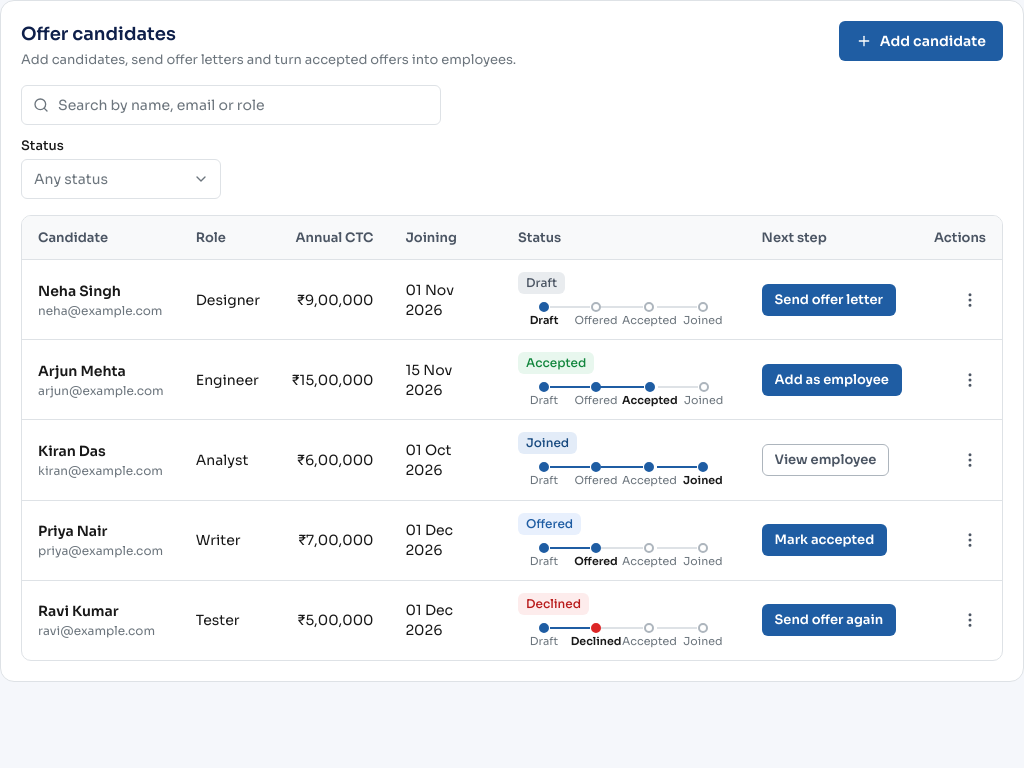
Test: rows › opens the candidate's letters and the edit drawer from the menu
The width and height of the screenshot is (1024, 768).
Check: the text "Neha Singh" is shown, box [38,282,121,300]
Click the button named "Actions for Neha Singh" at (970,300), box [954,284,986,316]
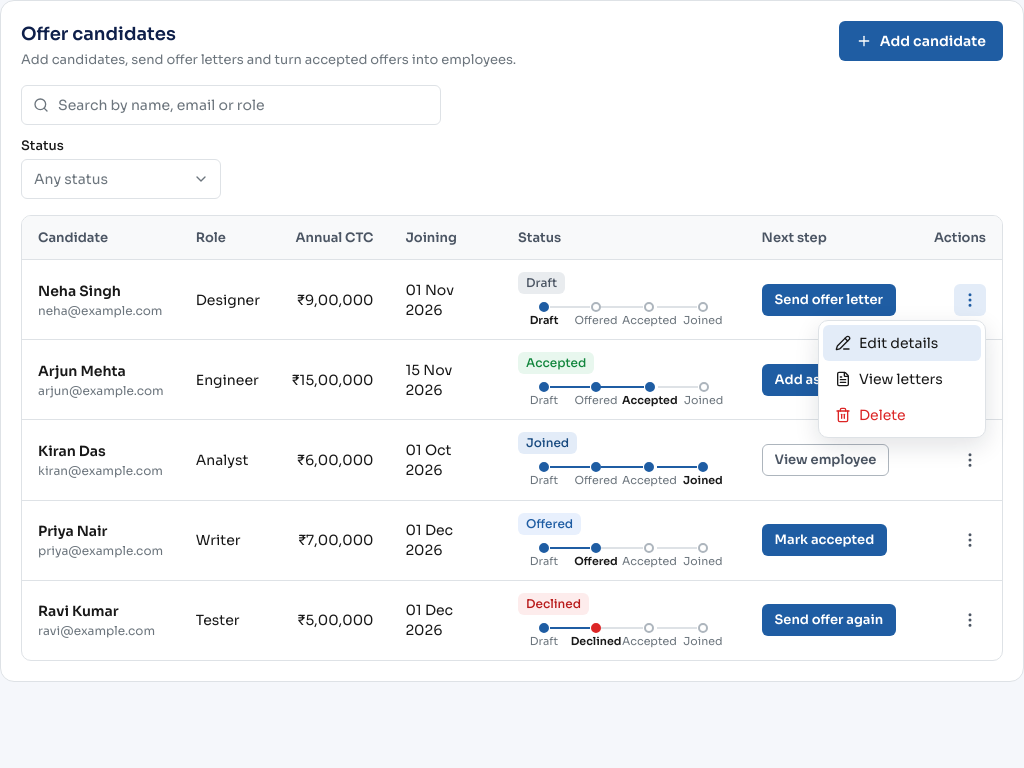
Click the menu item "View letters" at (902,379), box [823,361,981,397]
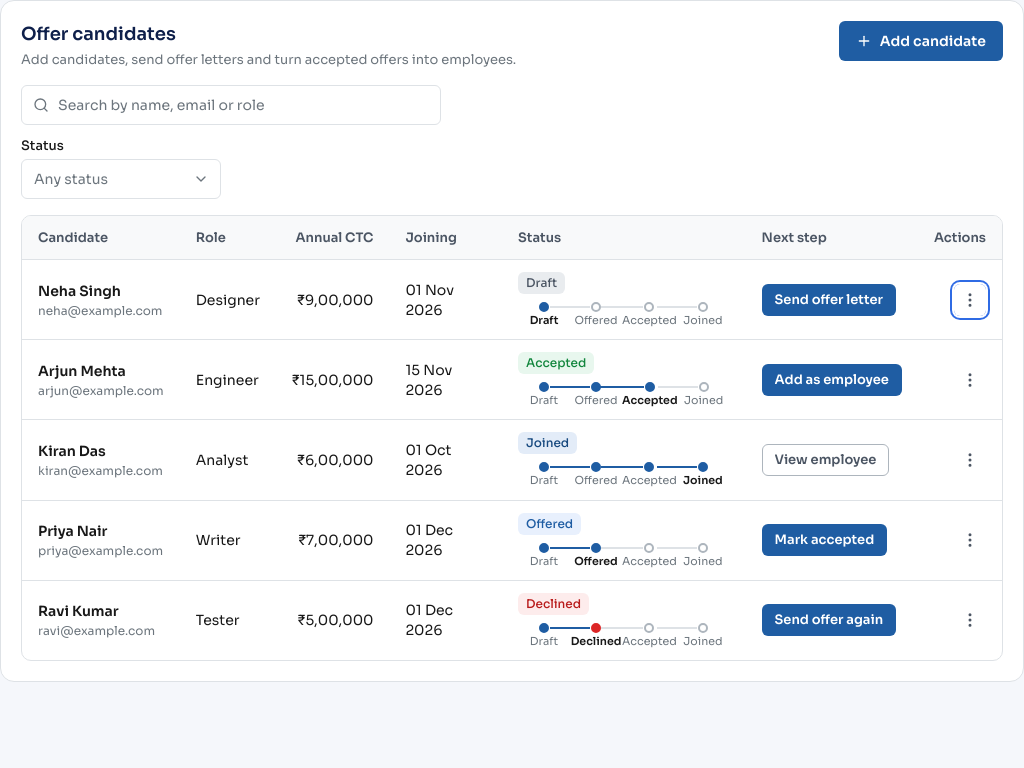
Click the button named "Actions for Neha Singh" at (970,300), box [954,284,986,316]
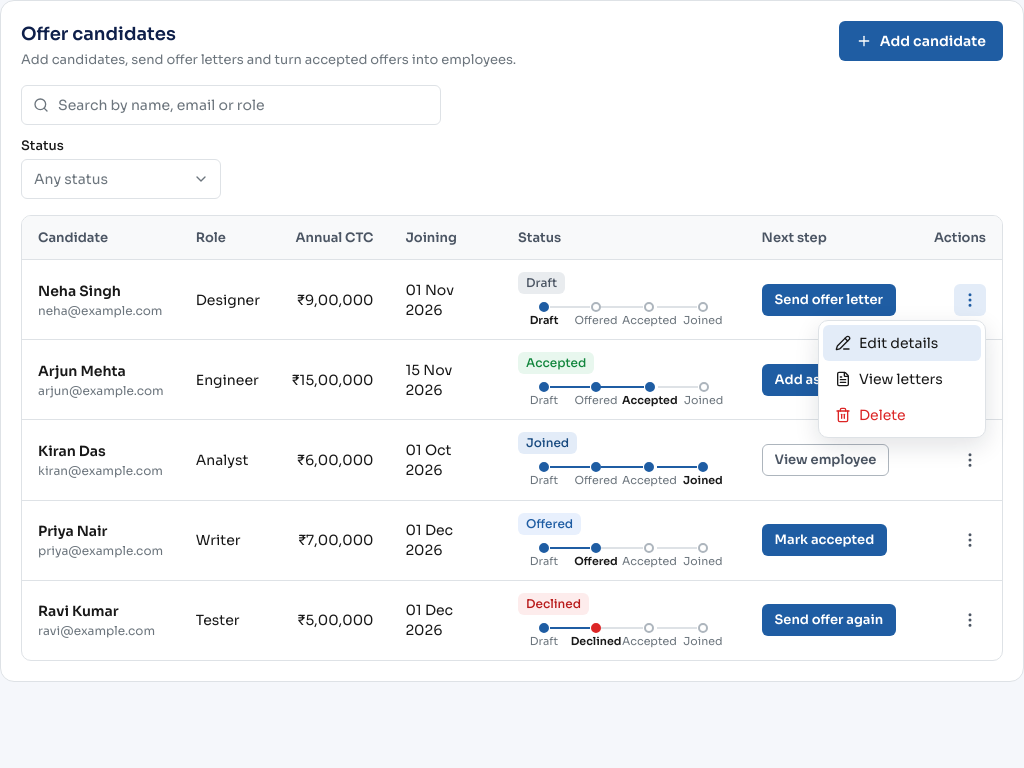
Click the menu item "Edit details" at (902,343), box [823,325,981,361]
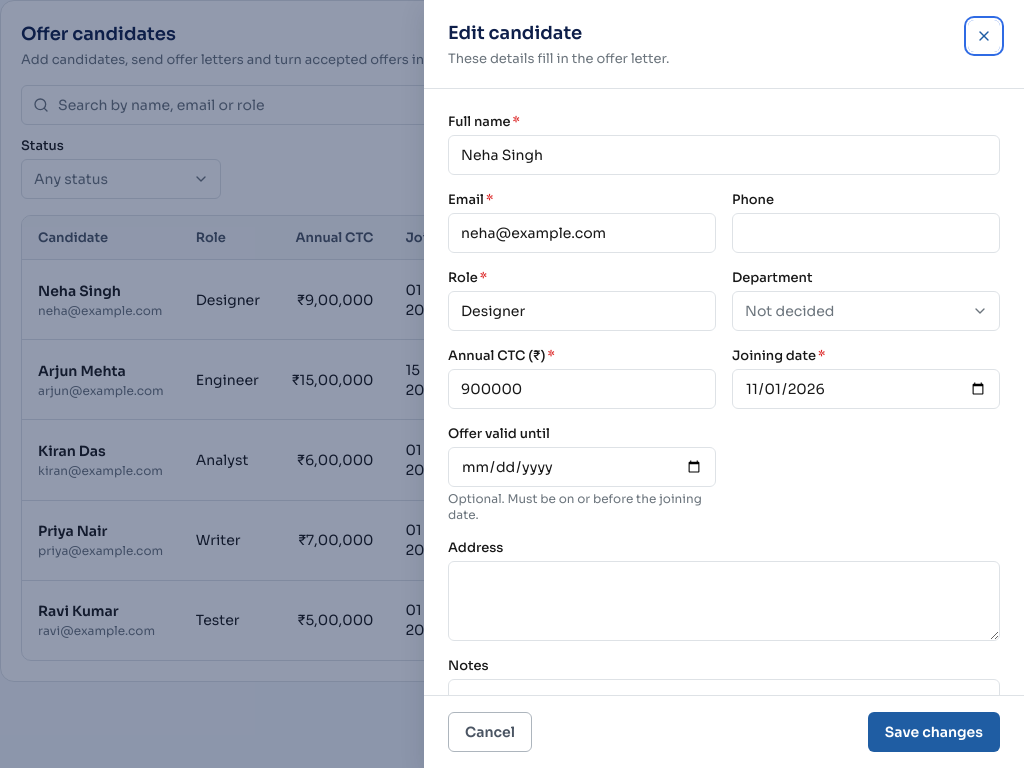
Check: the dialog "Edit candidate" is shown, box [424,0,1023,767]
Check: the field showing "Neha Singh" is shown, box [448,135,1000,175]
